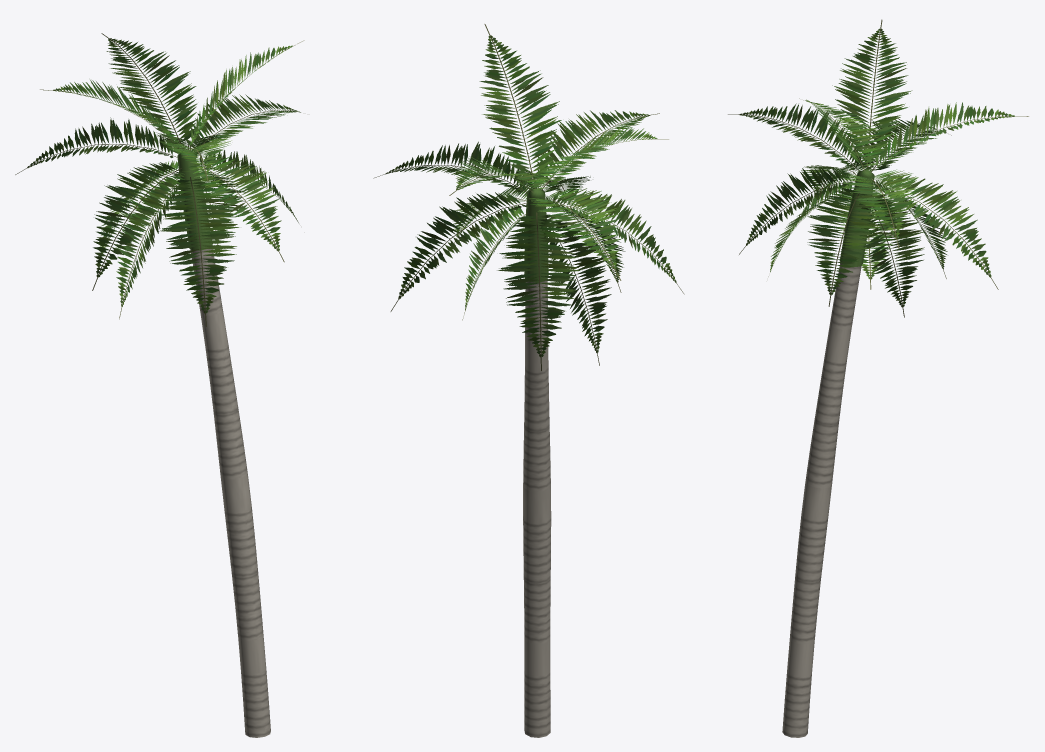
File: veg_royal_palm_b.fbx
The picture shows the model from 3 angles, left to right: view 1: azimuth 30°, elevation 25°; view 2: azimuth 150°, elevation 25°; view 3: azimuth 270°, elevation 25°; orthographic projection. The views are drawn at different scales.
Parts seen in each view (by area): view 1: veg_royal_palm_b_LOD0; view 2: veg_royal_palm_b_LOD0; view 3: veg_royal_palm_b_LOD0.
Boxes of the visible parts, <box> form: veg_royal_palm_b_LOD0: <box>15,33,304,737</box>; veg_royal_palm_b_LOD0: <box>373,24,684,737</box>; veg_royal_palm_b_LOD0: <box>728,19,1028,737</box>.
Size of what is drawn, in the model's own units: 6.06 by 13.81 by 5.87.
Materials: 2 (2 with a texture image).
